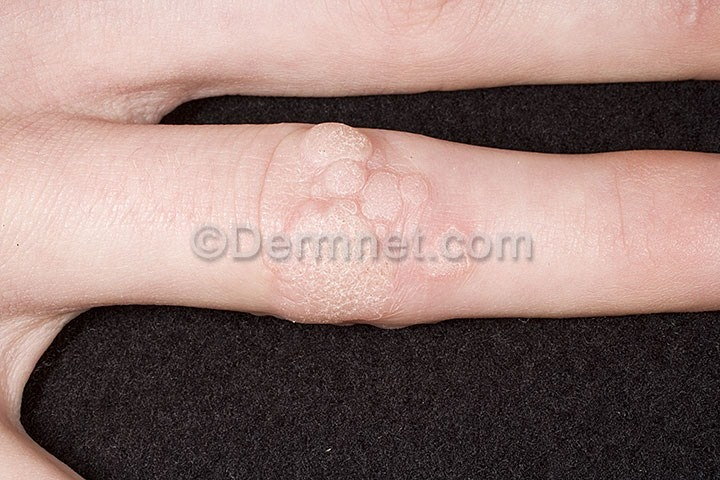Warts: (291, 118, 437, 224)
